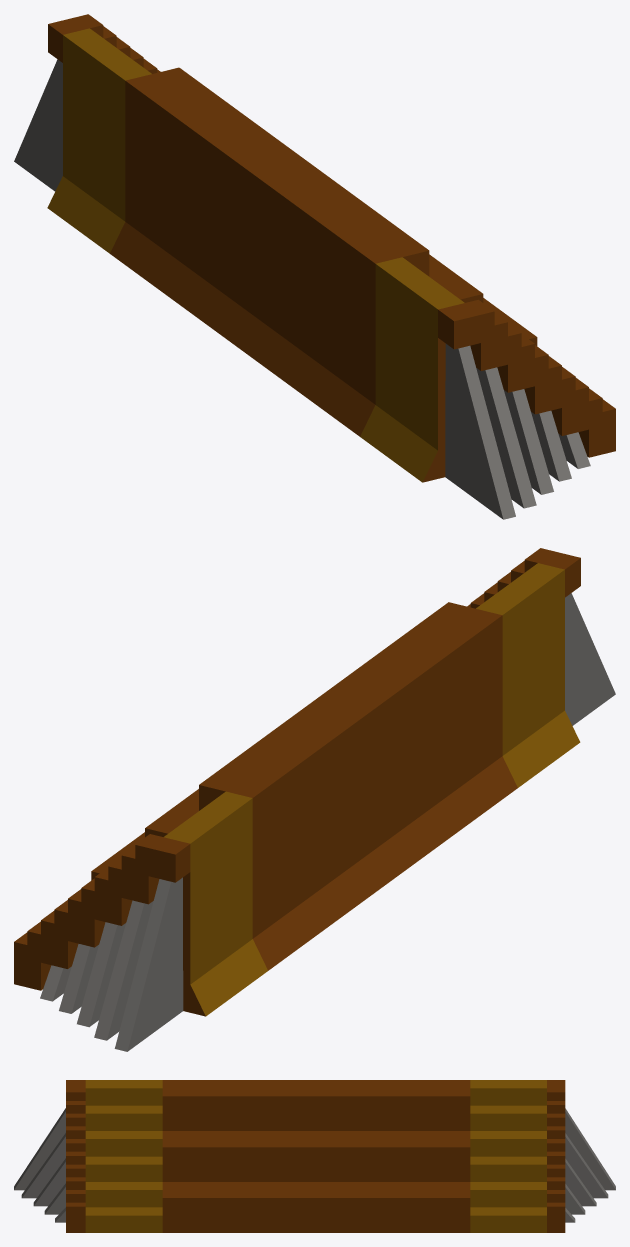
File: Tribühne.fbx
3 views of the same model, one above another, from view 1: azimuth 30°, elevation 25°; view 2: azimuth 150°, elevation 25°; view 3: azimuth 270°, elevation 25° (orthographic). The views are drawn at different scales.
Visible parts, largest first — view 1: Tribühne; view 2: Tribühne; view 3: Tribühne.
Part boxes in pixels (x1,y1,x2,y2): Tribühne: (14, 14, 615, 519); Tribühne: (14, 548, 615, 1051); Tribühne: (14, 1080, 615, 1232).
Bounding box in the file's own units: 1071 × 978 × 5121.
